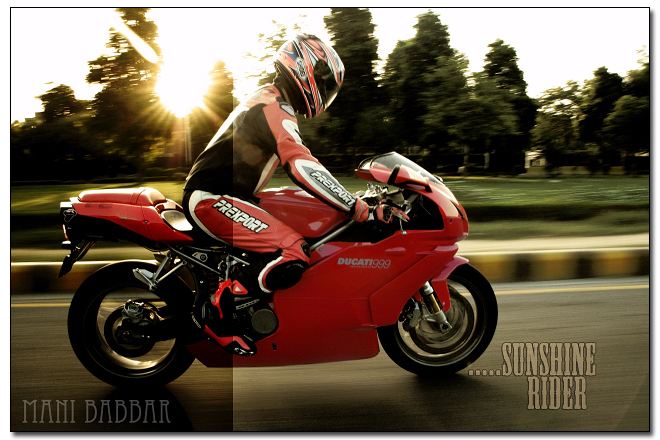helmet: (278, 31, 353, 112)
